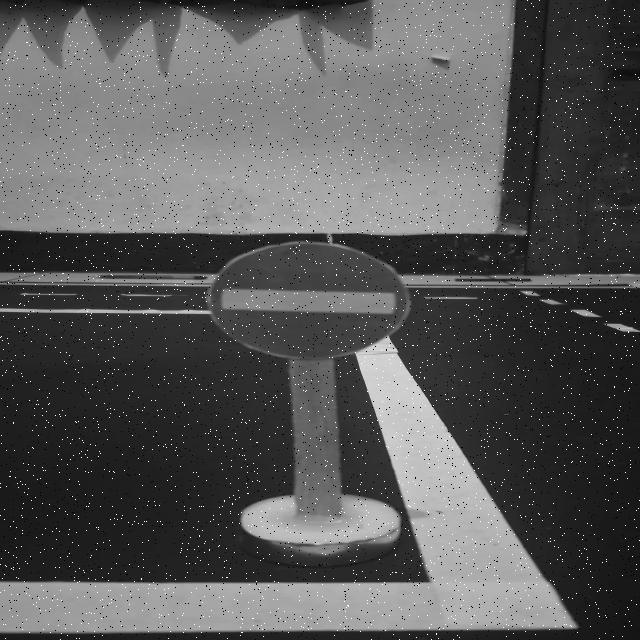Dilarang Masuk: (209, 243, 408, 358)
